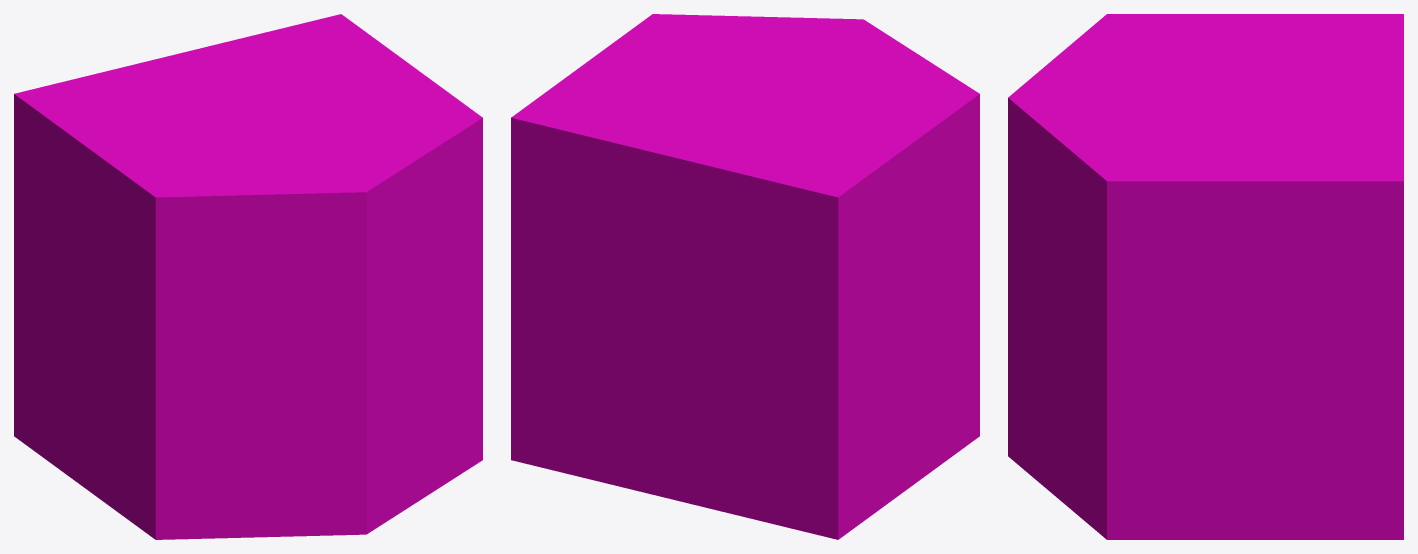
The model's file is mob.glb.
3 renders of one model, left to right at view 1: azimuth 30°, elevation 25°; view 2: azimuth 150°, elevation 25°; view 3: azimuth 270°, elevation 25°, orthographic. The views are drawn at different scales.
Visible parts, largest first — view 1: Cube; view 2: Cube; view 3: Cube.
Boxes of the visible parts, x1,y1,x2,y2 form: Cube: (14, 14, 482, 539); Cube: (511, 14, 979, 539); Cube: (1008, 14, 1403, 539).
Bounding box in the file's own units: 0.8 × 0.8 × 0.8.
